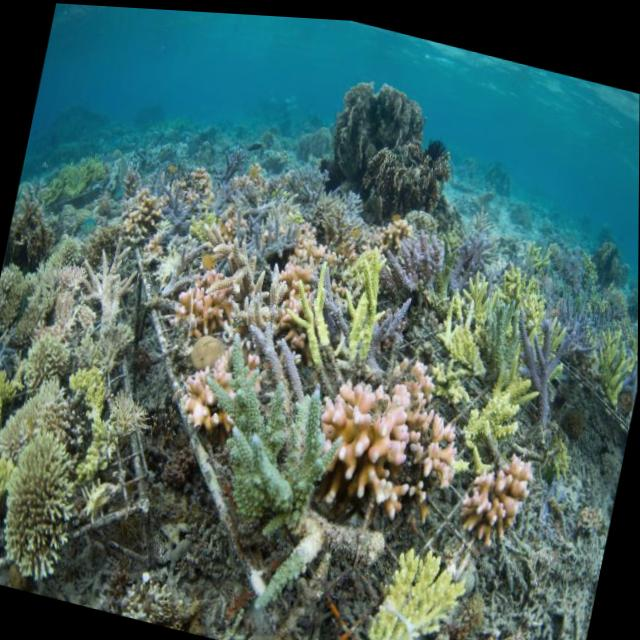Healthy Coral: (154, 154, 437, 385), (151, 329, 370, 615), (435, 239, 564, 440), (325, 352, 472, 515), (351, 528, 476, 640), (534, 264, 639, 394), (0, 420, 83, 583), (61, 225, 154, 336), (452, 443, 543, 550), (62, 351, 124, 431), (114, 177, 173, 247), (12, 332, 75, 392), (0, 260, 32, 327)
